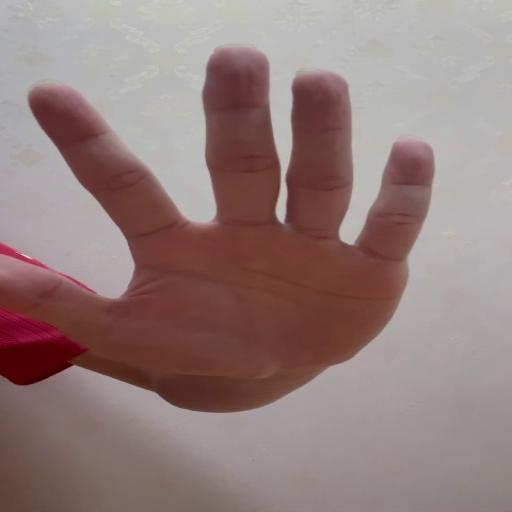open_palm: (4, 40, 436, 376)
